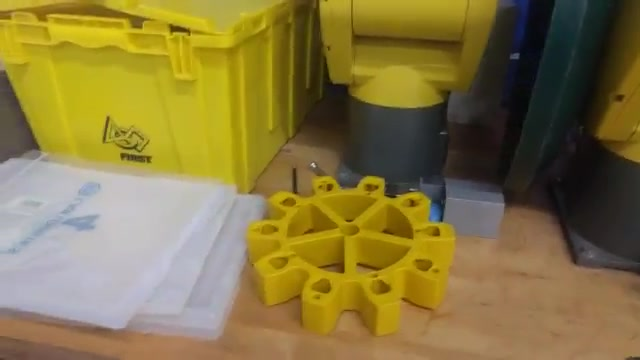gear: (235, 164, 461, 338)
